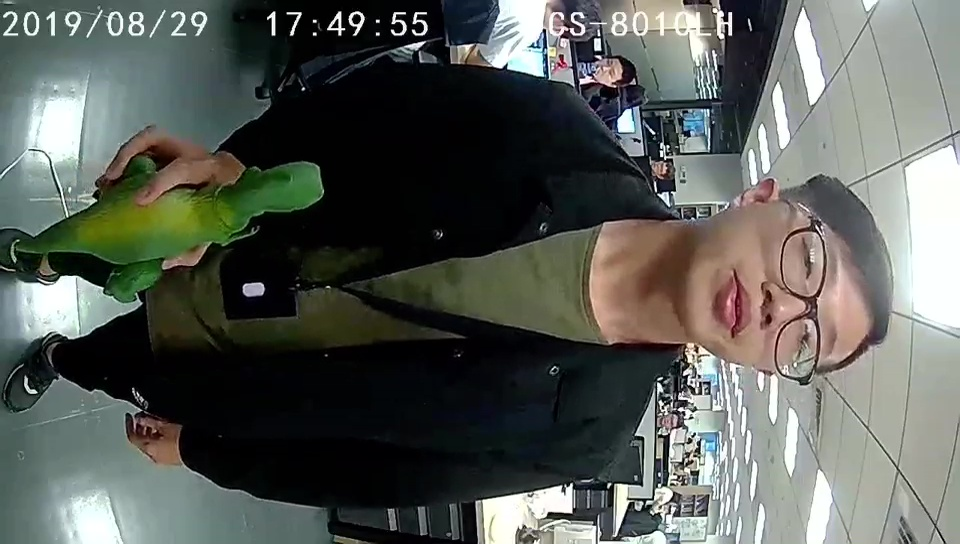rex: (57, 149, 325, 302)
